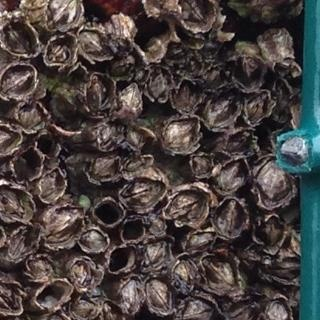Barnacle: (166, 184, 212, 222), (45, 207, 85, 249), (257, 163, 293, 204), (123, 179, 166, 212), (43, 0, 83, 32), (204, 257, 239, 293), (0, 184, 31, 224), (215, 157, 250, 192), (215, 199, 246, 237), (164, 117, 199, 150), (0, 67, 35, 100), (139, 237, 173, 270), (81, 29, 114, 63), (4, 21, 36, 56), (170, 258, 199, 296), (204, 94, 238, 126), (232, 53, 261, 87), (257, 216, 285, 251), (179, 0, 214, 28), (7, 227, 37, 259), (144, 66, 170, 102), (244, 89, 270, 124), (146, 276, 171, 312), (116, 80, 140, 115), (115, 277, 142, 308), (173, 80, 200, 111), (79, 227, 110, 252), (48, 37, 76, 63), (181, 297, 212, 320), (40, 168, 63, 199), (96, 123, 118, 155), (28, 257, 55, 282), (0, 279, 21, 311), (72, 261, 93, 292), (20, 103, 46, 128), (187, 230, 215, 253), (72, 296, 98, 320), (94, 157, 119, 181), (274, 59, 299, 81), (191, 154, 212, 177), (267, 300, 288, 320), (125, 157, 149, 174), (127, 127, 146, 147), (104, 302, 122, 320)
